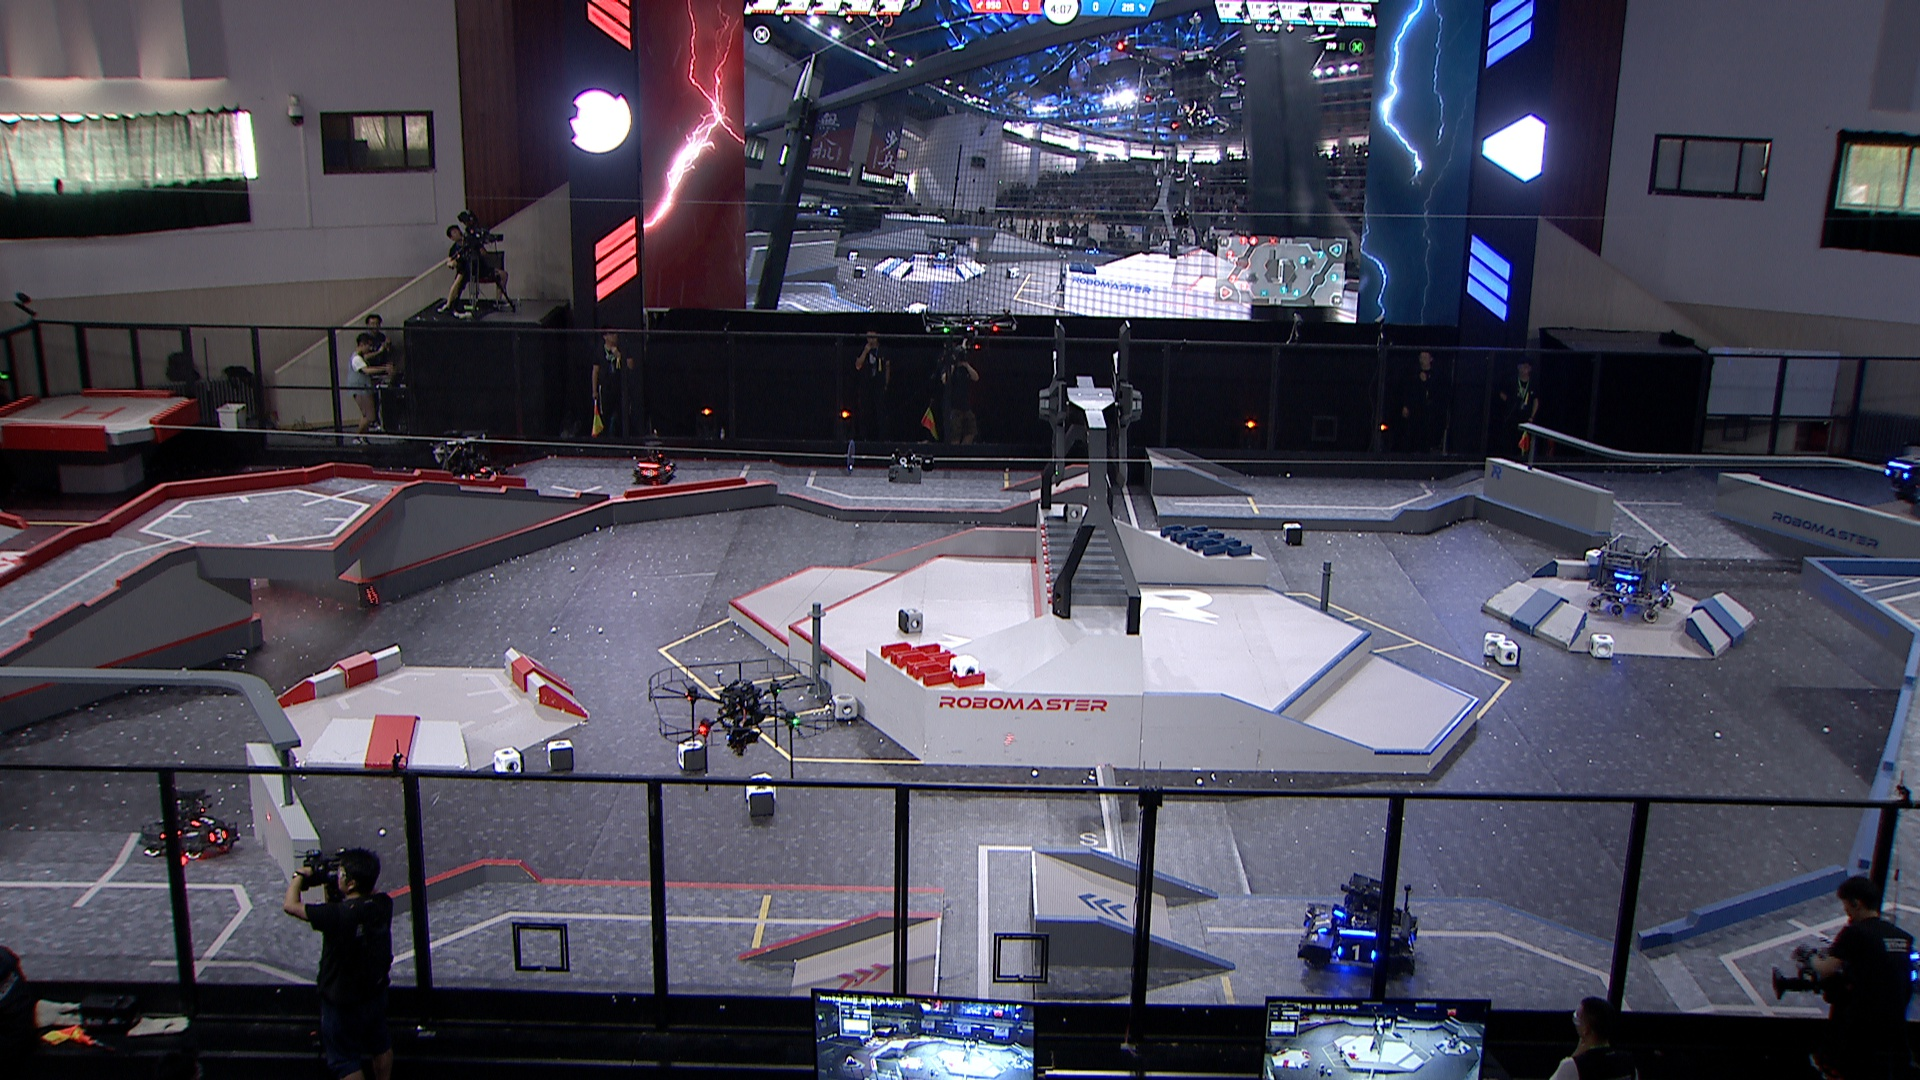armor: (1335, 944, 1377, 964), (1884, 465, 1912, 483), (1313, 913, 1335, 935), (207, 827, 229, 847), (187, 815, 219, 827), (1614, 582, 1636, 597), (1404, 932, 1419, 956), (458, 472, 477, 481), (640, 469, 659, 479), (1660, 580, 1671, 593), (479, 465, 495, 473)
car: (1298, 869, 1419, 982), (1589, 529, 1676, 624), (138, 783, 243, 861), (1836, 911, 1920, 989), (433, 425, 508, 489), (632, 440, 680, 485)
ignore: (812, 202, 841, 219)
watcher: (1884, 451, 1920, 509)
